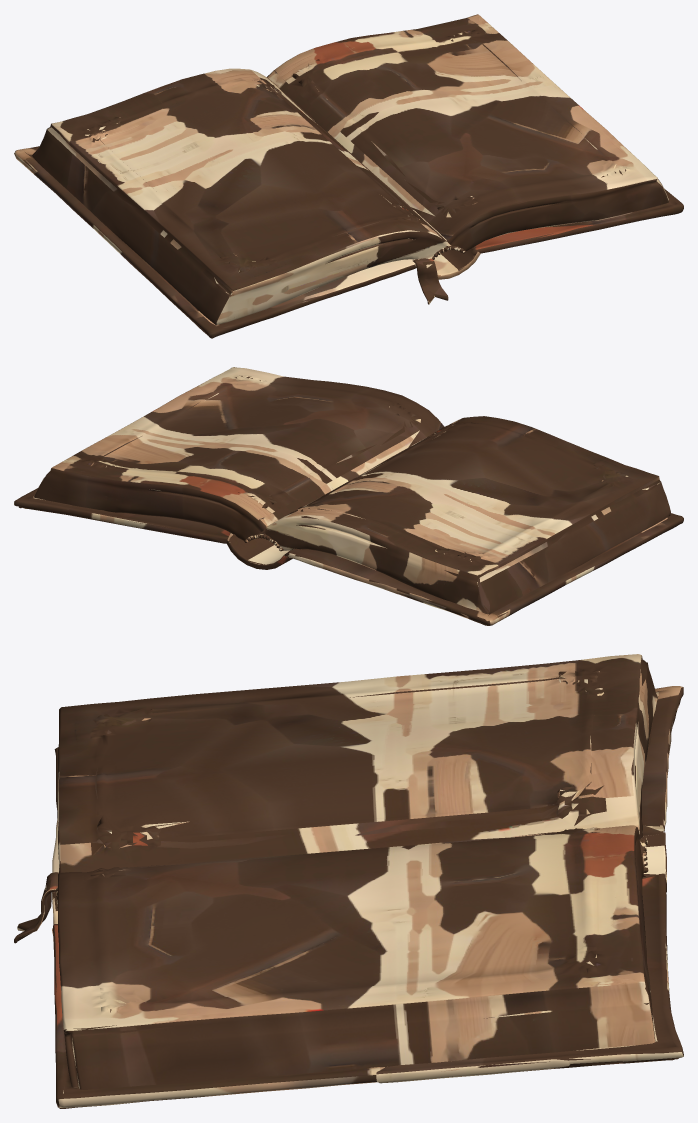
File: open_book_3d_model_1.fbx
The picture shows the model from 3 angles, top to bottom: view 1: azimuth 30°, elevation 25°; view 2: azimuth 150°, elevation 25°; view 3: azimuth 270°, elevation 25°; orthographic projection. The views are drawn at different scales.
Visible parts, largest first — view 1: tripo_part_1, tripo_part_0, tripo_part_2, tripo_part_3, tripo_part_4, tripo_part_7; view 2: tripo_part_1, tripo_part_0, tripo_part_2, tripo_part_5, tripo_part_4; view 3: tripo_part_0, tripo_part_1, tripo_part_5, tripo_part_3, tripo_part_2, tripo_part_4, tripo_part_7.
Part boxes in pixels (x1=…): tripo_part_1: x1=32, y1=68, x2=447, y2=324; tripo_part_0: x1=267, y1=14, x2=668, y2=251; tripo_part_2: x1=14, y1=146, x2=416, y2=338; tripo_part_3: x1=471, y1=188, x2=683, y2=255; tripo_part_4: x1=315, y1=121, x2=480, y2=279; tripo_part_7: x1=412, y1=258, x2=448, y2=304; tripo_part_1: x1=265, y1=416, x2=670, y2=614; tripo_part_0: x1=34, y1=367, x2=444, y2=540; tripo_part_2: x1=288, y1=513, x2=683, y2=625; tripo_part_5: x1=14, y1=488, x2=233, y2=543; tripo_part_4: x1=226, y1=459, x2=387, y2=569; tripo_part_0: x1=58, y1=825, x2=655, y2=1089; tripo_part_1: x1=58, y1=654, x2=657, y2=873; tripo_part_5: x1=376, y1=873, x2=683, y2=1083; tripo_part_3: x1=53, y1=924, x2=384, y2=1108; tripo_part_2: x1=52, y1=686, x2=683, y2=872; tripo_part_4: x1=52, y1=824, x2=666, y2=941; tripo_part_7: x1=14, y1=872, x2=58, y2=943.
Bounding box in the file's own units: 0.9793 × 0.1929 × 0.7416.
